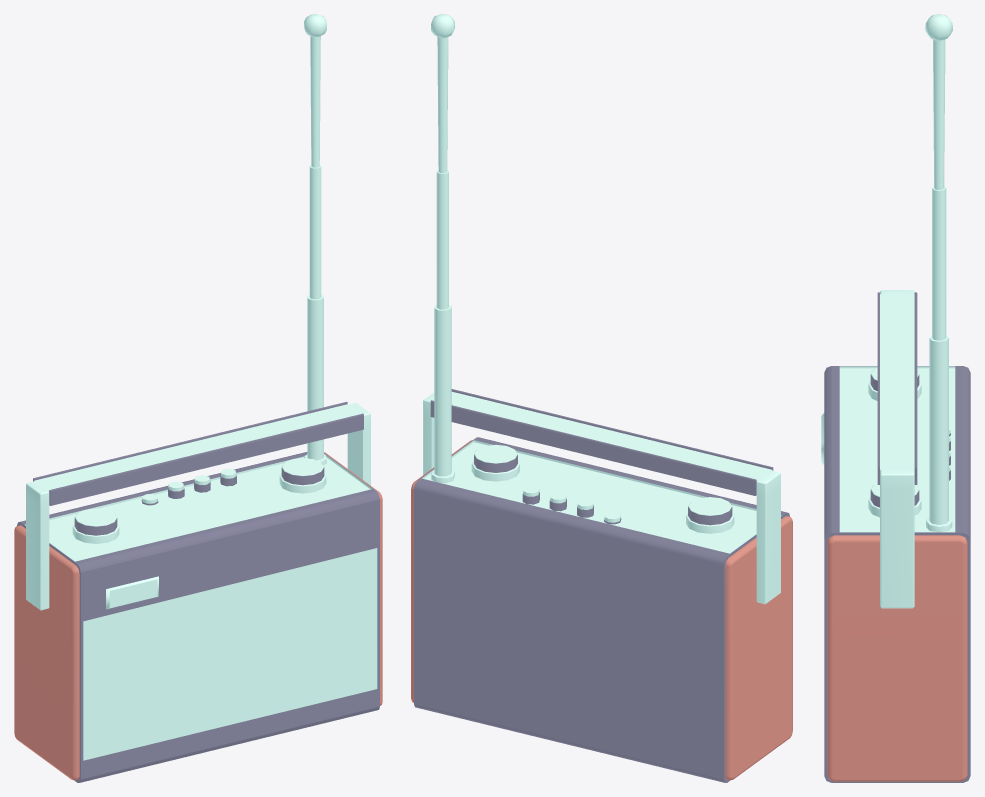
Rendered from radio.fbx.
The picture shows the model from 3 angles, left to right: view 1: azimuth 30°, elevation 25°; view 2: azimuth 150°, elevation 25°; view 3: azimuth 270°, elevation 25°; orthographic projection. The views are drawn at different scales.
Visible parts, largest first — view 1: radio, handle, antenna1, antenna3, antenna2; view 2: radio, handle, antenna1, antenna3, antenna2; view 3: radio, handle, antenna1, antenna3, antenna2.
Part boxes in pixels (x1,y1,x2,y2): radio: (14, 452, 382, 782); handle: (26, 401, 370, 610); antenna1: (307, 294, 323, 460); antenna3: (304, 14, 326, 167); antenna2: (309, 164, 321, 299); radio: (411, 437, 792, 782); handle: (423, 389, 780, 604); antenna1: (434, 305, 451, 476); antenna3: (431, 14, 454, 173); antenna2: (436, 170, 448, 309); radio: (821, 366, 970, 782); handle: (877, 290, 917, 608); antenna1: (929, 335, 948, 524); antenna3: (925, 14, 952, 189); antenna2: (932, 186, 946, 340).
Bounding box in the file's own units: 44.33 × 84.72 × 15.08.
